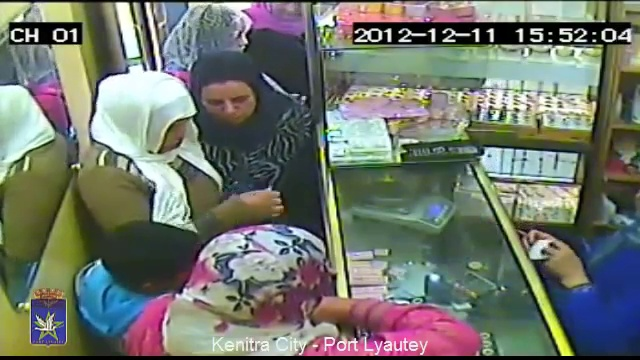face: (193, 79, 262, 126)
